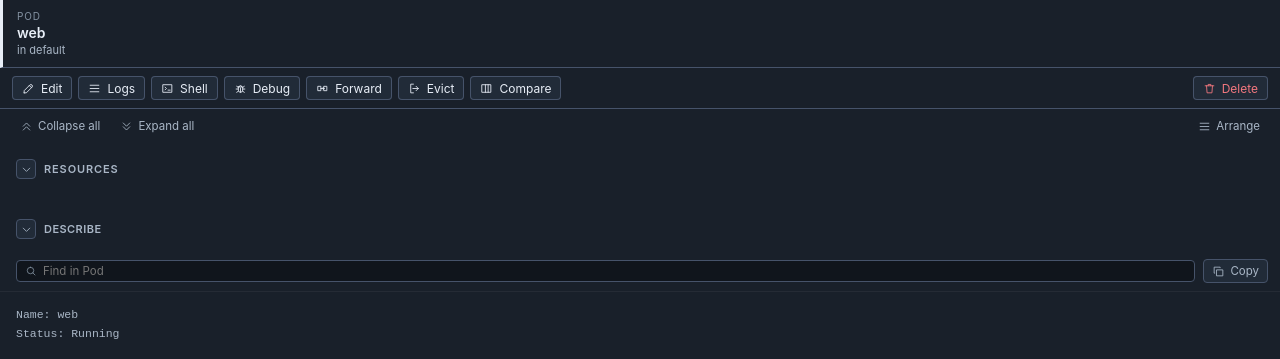
Test: the whole report can be copied
The image size is (1280, 359).
Type "status" into the field named "Find in this report".
click(615, 271); type("status")  # box [43,264,1186,278]
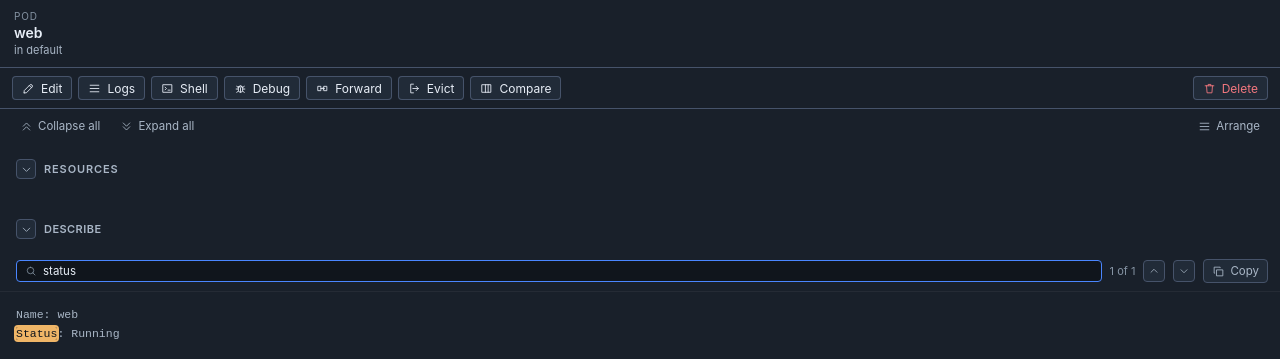
Click the button with aria-label "Copy the report".
click(1236, 271)  # box [1203,259,1268,283]
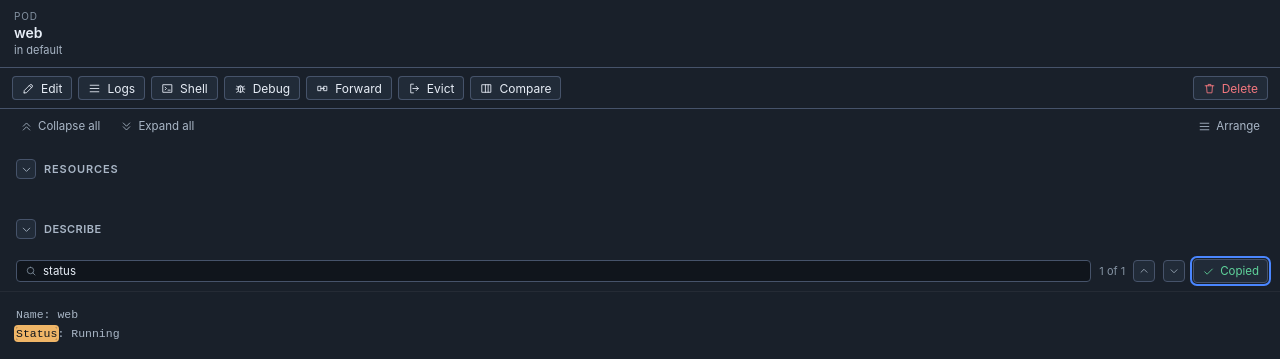
Check: the text "Copied" is shown, box [1220,264,1259,278]
